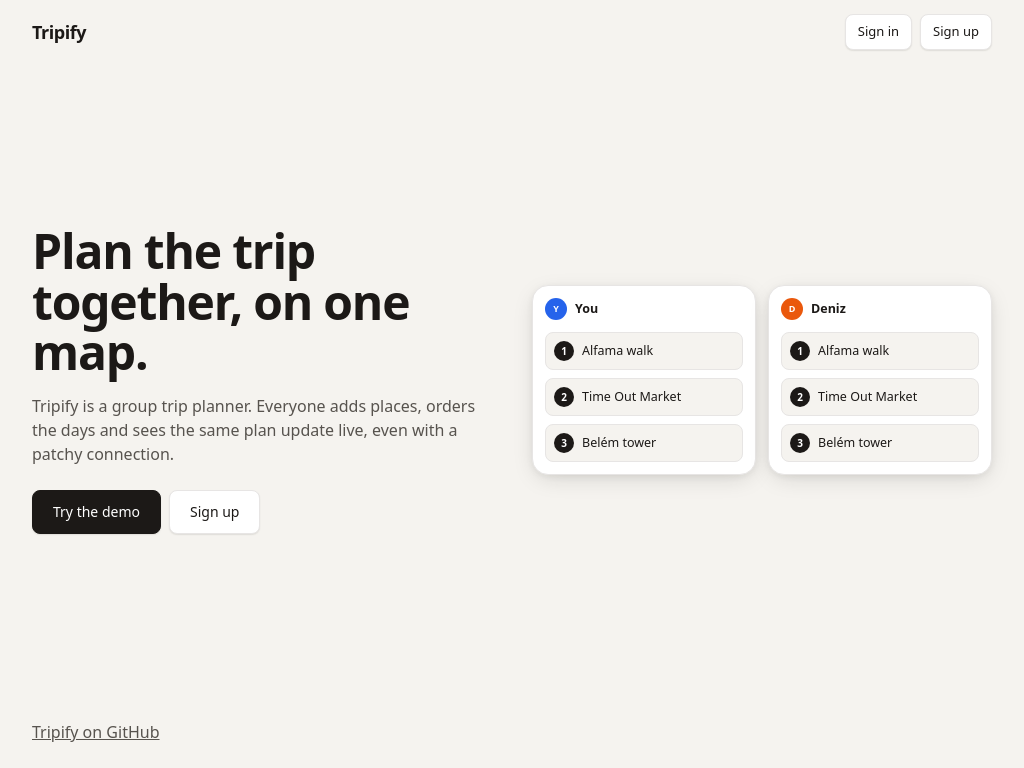
Test case: landing › 429 shows the friendly message with a way to sign up
Click the button "Try the demo": (96, 512) [32,490,161,534]
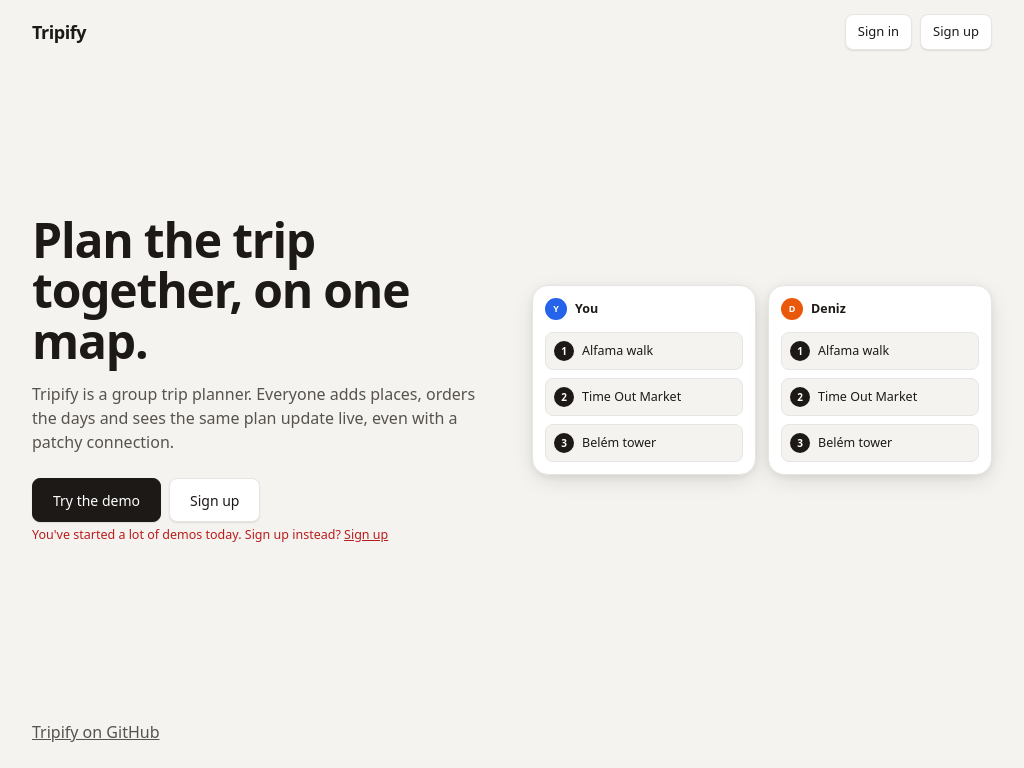
Expected: the link "Sign up" next to "Sign in" is shown, [920,14,992,50]
Expected: the message shows "You've started a lot of demos today. Sign up instead?", [32,526,341,543]
